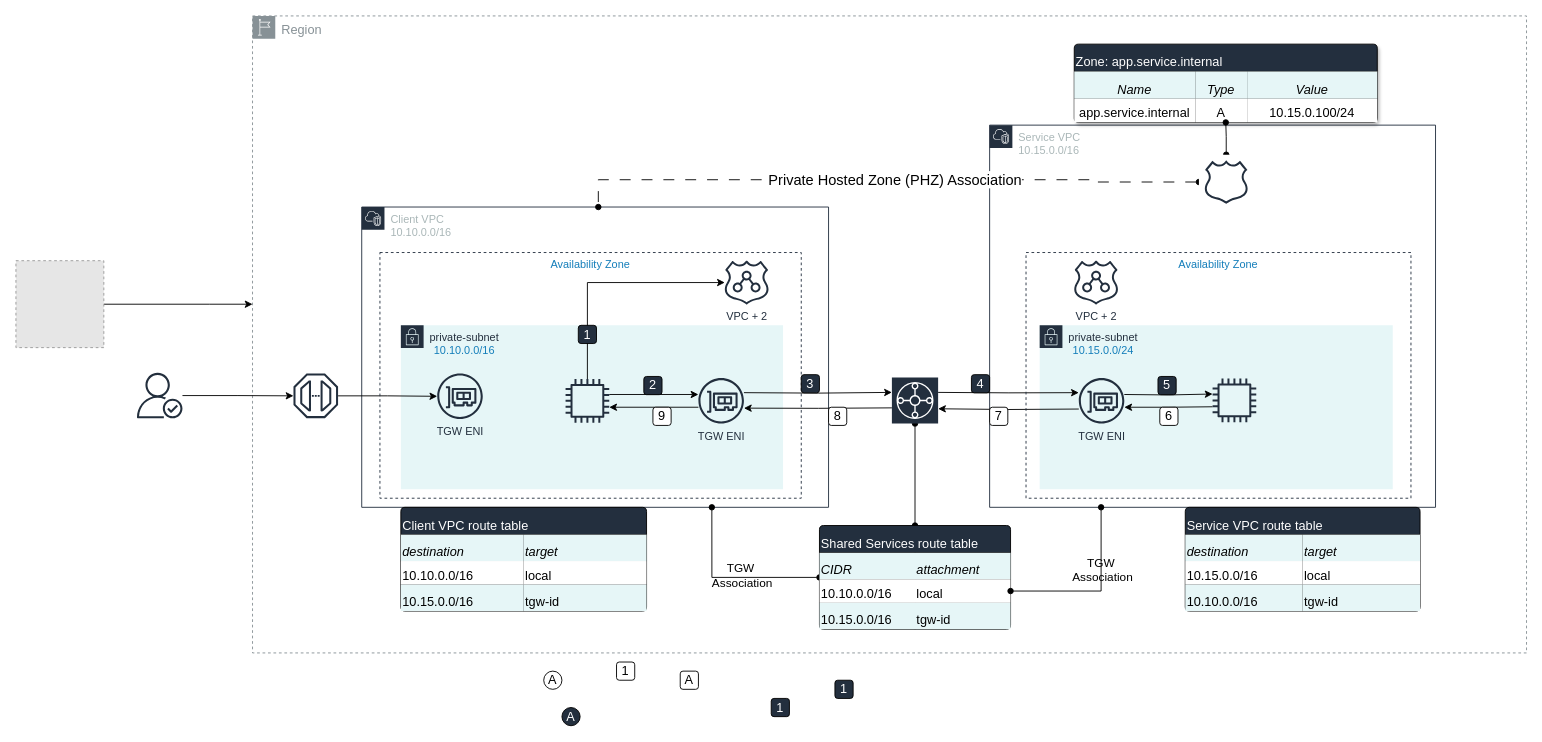
Some shapes in this 1542 by 742 pixel diagram are drawn without their labels. Grey dashed boxes stand in for pictures. Here are the shapes that lost their labels. From the top down, the centre of each, then its label:
At point (1226, 181): "Private Hosted Zone (PHZ)".
At point (315, 395): "EC2 Instance Connect Endpoint".
At point (587, 400): "Client EC2 Instance".
At point (914, 400): "Transit Gateway".
At point (1234, 400): "Server EC2 Instnace 10.15.0.100/24".
